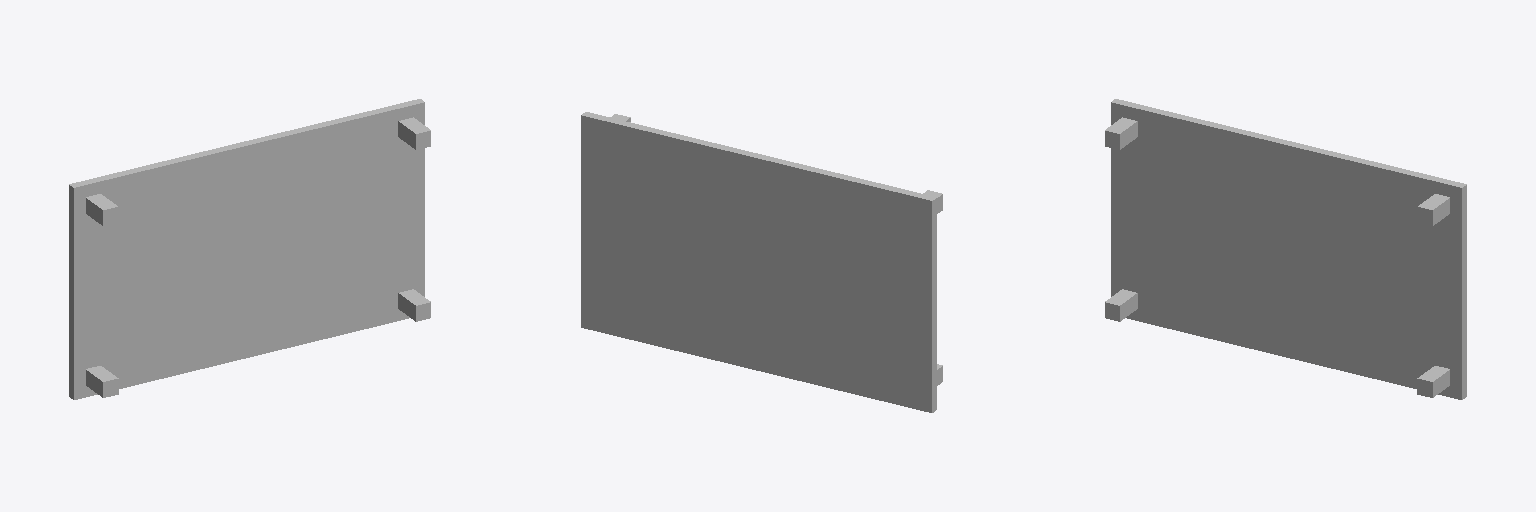
File: random_table97.obj
3 renders of one model, left to right at view 1: azimuth 30°, elevation 25°; view 2: azimuth 150°, elevation 25°; view 3: azimuth 330°, elevation 25°, orthographic.
Visible parts, largest first — view 1: Table_Cube.1550, TableLeg0_Cube.1551, TableLeg1_Cube.1552, TableLeg2_Cube.1553, TableLeg3_Cube.1554; view 2: Table_Cube.1550; view 3: Table_Cube.1550, TableLeg0_Cube.1551, TableLeg1_Cube.1552, TableLeg2_Cube.1553, TableLeg3_Cube.1554.
Boxes of the visible parts, box(x1,y1,x2,y2) form: Table_Cube.1550: box(69, 99, 424, 399); TableLeg0_Cube.1551: box(398, 117, 430, 149); TableLeg1_Cube.1552: box(86, 194, 118, 225); TableLeg2_Cube.1553: box(398, 289, 430, 321); TableLeg3_Cube.1554: box(86, 366, 118, 397); Table_Cube.1550: box(581, 112, 936, 412); Table_Cube.1550: box(1111, 99, 1466, 399); TableLeg0_Cube.1551: box(1417, 194, 1449, 225); TableLeg1_Cube.1552: box(1105, 117, 1137, 149); TableLeg2_Cube.1553: box(1417, 366, 1449, 397); TableLeg3_Cube.1554: box(1105, 289, 1137, 321).
Bounding box in the file's own units: 12.57 × 7.25 × 1.41.